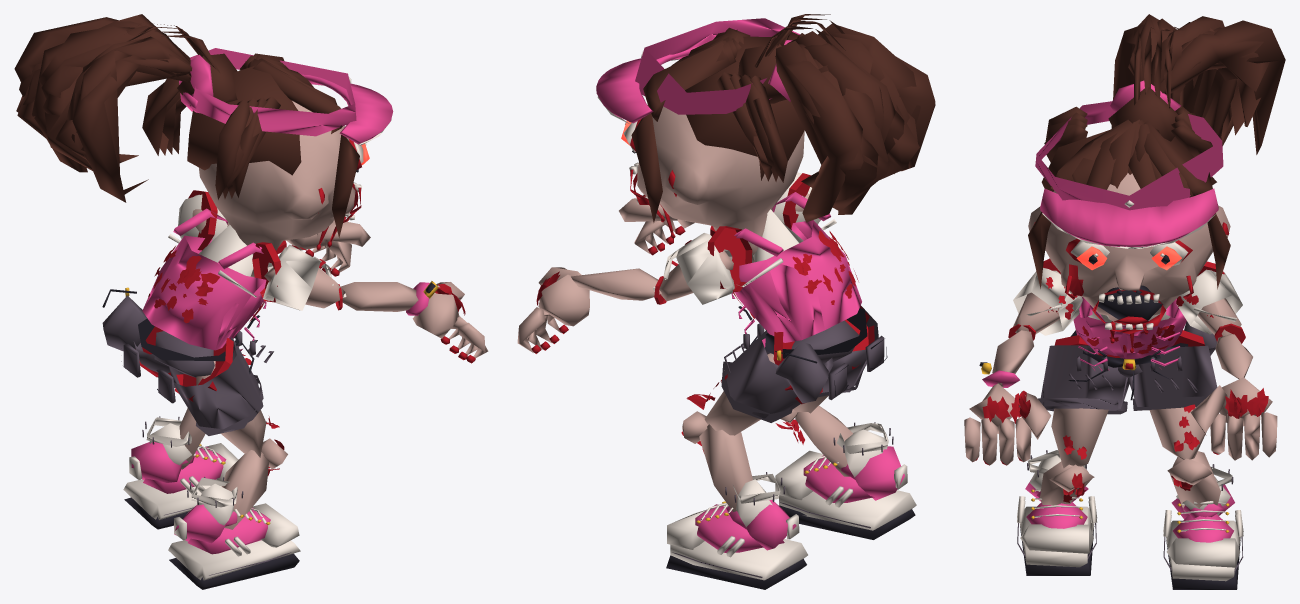
The picture shows the model from 3 angles, left to right: view 1: azimuth 30°, elevation 25°; view 2: azimuth 150°, elevation 25°; view 3: azimuth 270°, elevation 25°; orthographic projection. The views are drawn at different scales.
Visible parts, largest first — view 1: head, torso, footR, footL, legR, hip, armR, handR, foreArmR, shinR, handL, armL (+4 smaller); view 2: head, torso, footR, footL, legL, hip, armL, handL, shinL, shinR, foreArmL, handR (+3 smaller); view 3: head, legR, footL, footR, legL, handL, handR, torso, armR, armL, shinL, foreArmR (+3 smaller).
Part boxes in pixels (x1=…): head: x1=14, y1=14, x2=393, y2=277; torso: x1=142, y1=208, x2=266, y2=350; footR: x1=168, y1=477, x2=300, y2=589; footL: x1=123, y1=416, x2=238, y2=529; legR: x1=169, y1=337, x2=279, y2=457; hip: x1=102, y1=287, x2=255, y2=403; armR: x1=263, y1=244, x2=345, y2=310; handR: x1=412, y1=282, x2=488, y2=363; foreArmR: x1=339, y1=281, x2=438, y2=315; shinR: x1=221, y1=438, x2=287, y2=529; handL: x1=286, y1=219, x2=370, y2=276; armL: x1=178, y1=194, x2=227, y2=241; head: x1=596, y1=14, x2=935, y2=262; torso: x1=731, y1=192, x2=861, y2=347; footR: x1=775, y1=422, x2=916, y2=539; footL: x1=666, y1=472, x2=807, y2=589; legL: x1=686, y1=330, x2=833, y2=435; hip: x1=743, y1=308, x2=887, y2=403; armL: x1=659, y1=233, x2=734, y2=304; handL: x1=517, y1=267, x2=589, y2=353; shinL: x1=681, y1=411, x2=752, y2=511; shinR: x1=775, y1=405, x2=853, y2=476; foreArmL: x1=571, y1=268, x2=661, y2=300; handR: x1=619, y1=198, x2=694, y2=255; head: x1=1028, y1=14, x2=1285, y2=353; legR: x1=1038, y1=345, x2=1129, y2=468; footL: x1=1163, y1=464, x2=1243, y2=589; footR: x1=1017, y1=450, x2=1097, y2=575; legL: x1=1128, y1=345, x2=1217, y2=459; handL: x1=1190, y1=377, x2=1277, y2=460; handR: x1=964, y1=383, x2=1051, y2=465; torso: x1=1073, y1=297, x2=1186, y2=370; armR: x1=1013, y1=268, x2=1082, y2=335; armL: x1=1176, y1=269, x2=1242, y2=336; shinL: x1=1167, y1=451, x2=1220, y2=513; foreArmR: x1=979, y1=330, x2=1033, y2=387.
Bounding box in the file's own units: 1.29 × 1.8 × 1.03.
